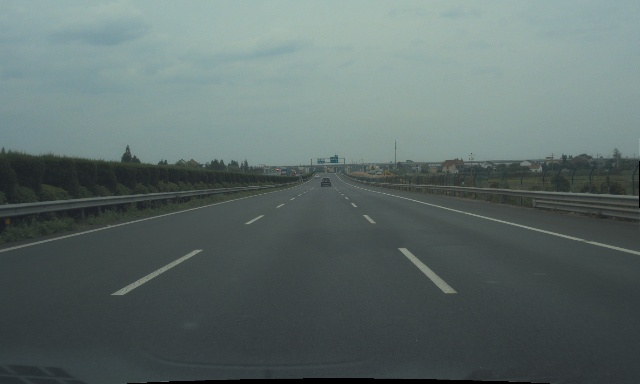car: (320, 177, 332, 186)
truck: (280, 169, 289, 179), (294, 169, 303, 174), (290, 170, 296, 176)
